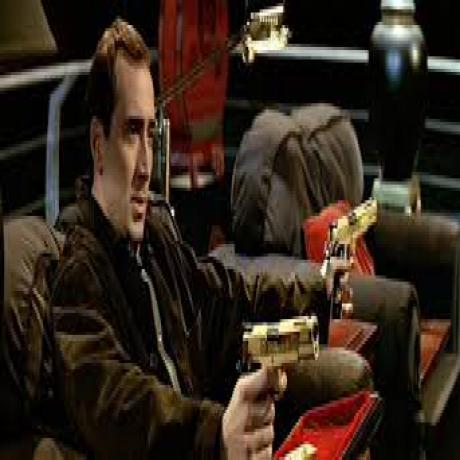Guns: (328, 201, 382, 316), (238, 321, 319, 391)
